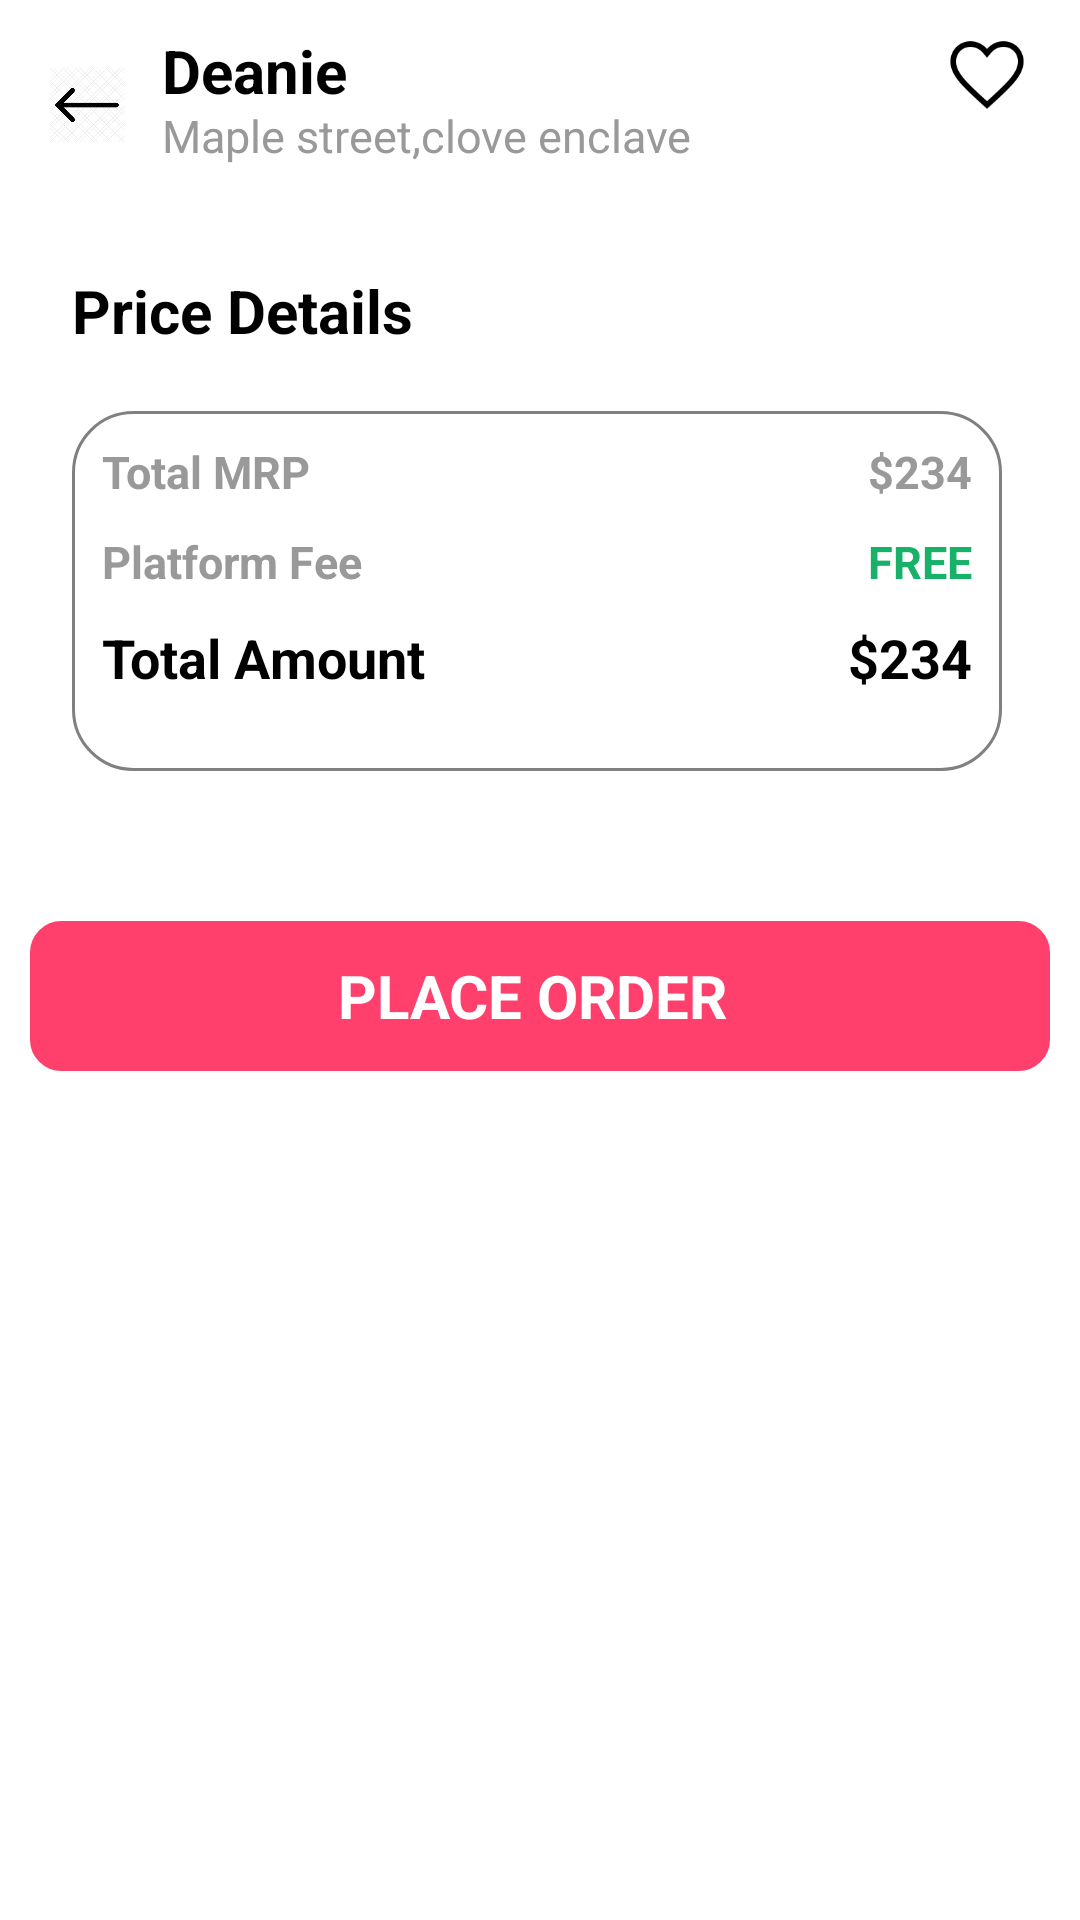

Named icons in this screenshot (1080 x 1920) and their bounding boxes, (x1, y1, x2, y2):
heart: (950, 41, 1024, 109)
leftarrow: (55, 88, 119, 122)
